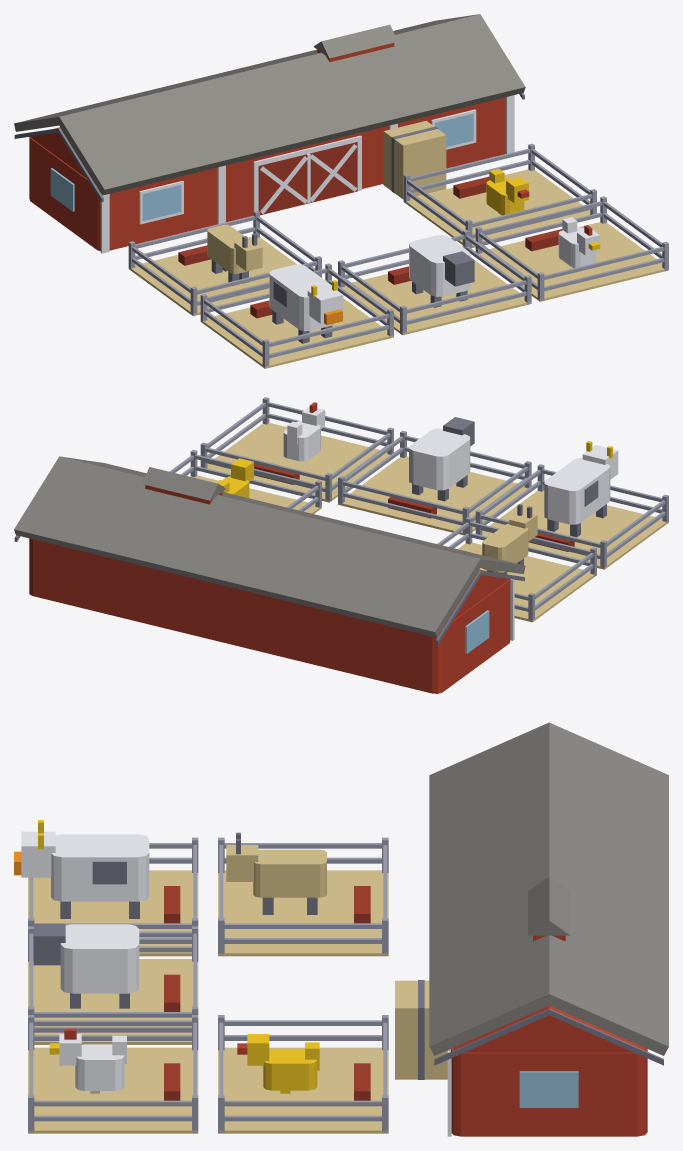
Rendered from livestock-farm-2x2-t5-tone-a.glb.
3 renders of one model, top to bottom at view 1: azimuth 30°, elevation 25°; view 2: azimuth 150°, elevation 25°; view 3: azimuth 270°, elevation 25°, orthographic. The views are drawn at different scales.
Parts seen in each view (by area): view 1: livestock-farm-2x2-t5-tone-a; view 2: livestock-farm-2x2-t5-tone-a; view 3: livestock-farm-2x2-t5-tone-a.
Part boxes in pixels (x1,y1,x2,y2): livestock-farm-2x2-t5-tone-a: [14, 14, 668, 368]; livestock-farm-2x2-t5-tone-a: [14, 397, 668, 693]; livestock-farm-2x2-t5-tone-a: [14, 722, 668, 1136].
Size of the model in its own units: 1.97 by 0.54 by 2.
1 material, 1 textured.
